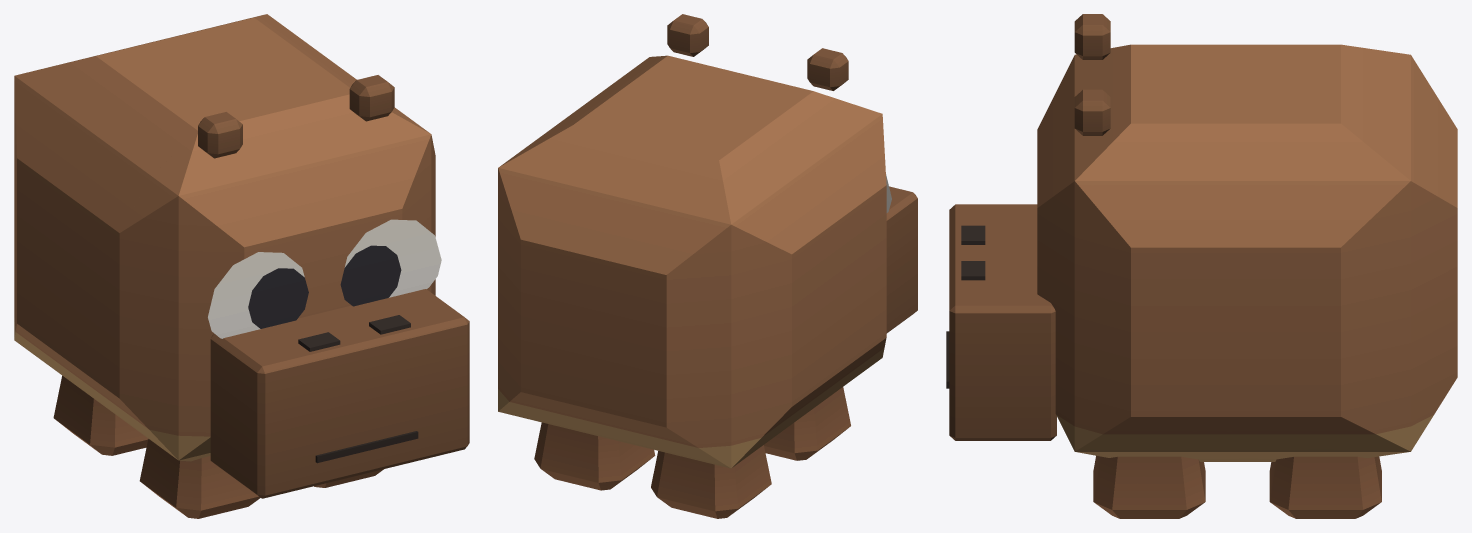
Rendered from capivara.glb.
3 renders of one model, left to right at view 1: azimuth 30°, elevation 25°; view 2: azimuth 150°, elevation 25°; view 3: azimuth 270°, elevation 25°, orthographic. The views are drawn at different scales.
Visible parts, largest first — view 1: head, body, leg-front-right, leg-back-right; view 2: body, head, leg-back-right, leg-back-left, leg-front-right; view 3: body, head, leg-front-left, leg-back-left.
Part boxes in pixels (x1,y1,x2,y2): head: (119,75,469,498); body: (14,14,402,439); leg-front-right: (139,439,260,518); leg-back-right: (53,375,148,455); body: (498,55,886,468); head: (625,14,917,375); leg-back-right: (651,445,771,518); leg-back-left: (534,422,655,490); leg-front-right: (764,387,850,460); body: (1131,44,1457,461); head: (946,14,1130,457); leg-front-left: (1093,455,1205,518); leg-back-left: (1269,456,1381,518).
Size of the model in its own units: 1.25 by 1.53 by 1.71.
Materials: 1 (1 with a texture image).
